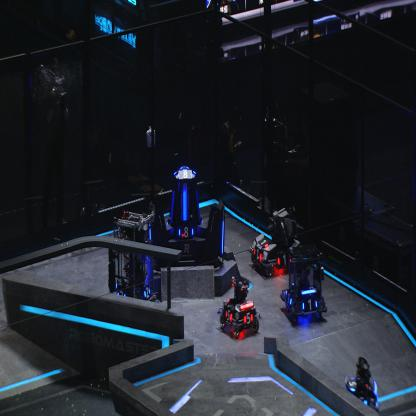car: (108, 210, 157, 304), (280, 240, 327, 323), (250, 204, 295, 277), (218, 273, 260, 337), (344, 358, 382, 416)
